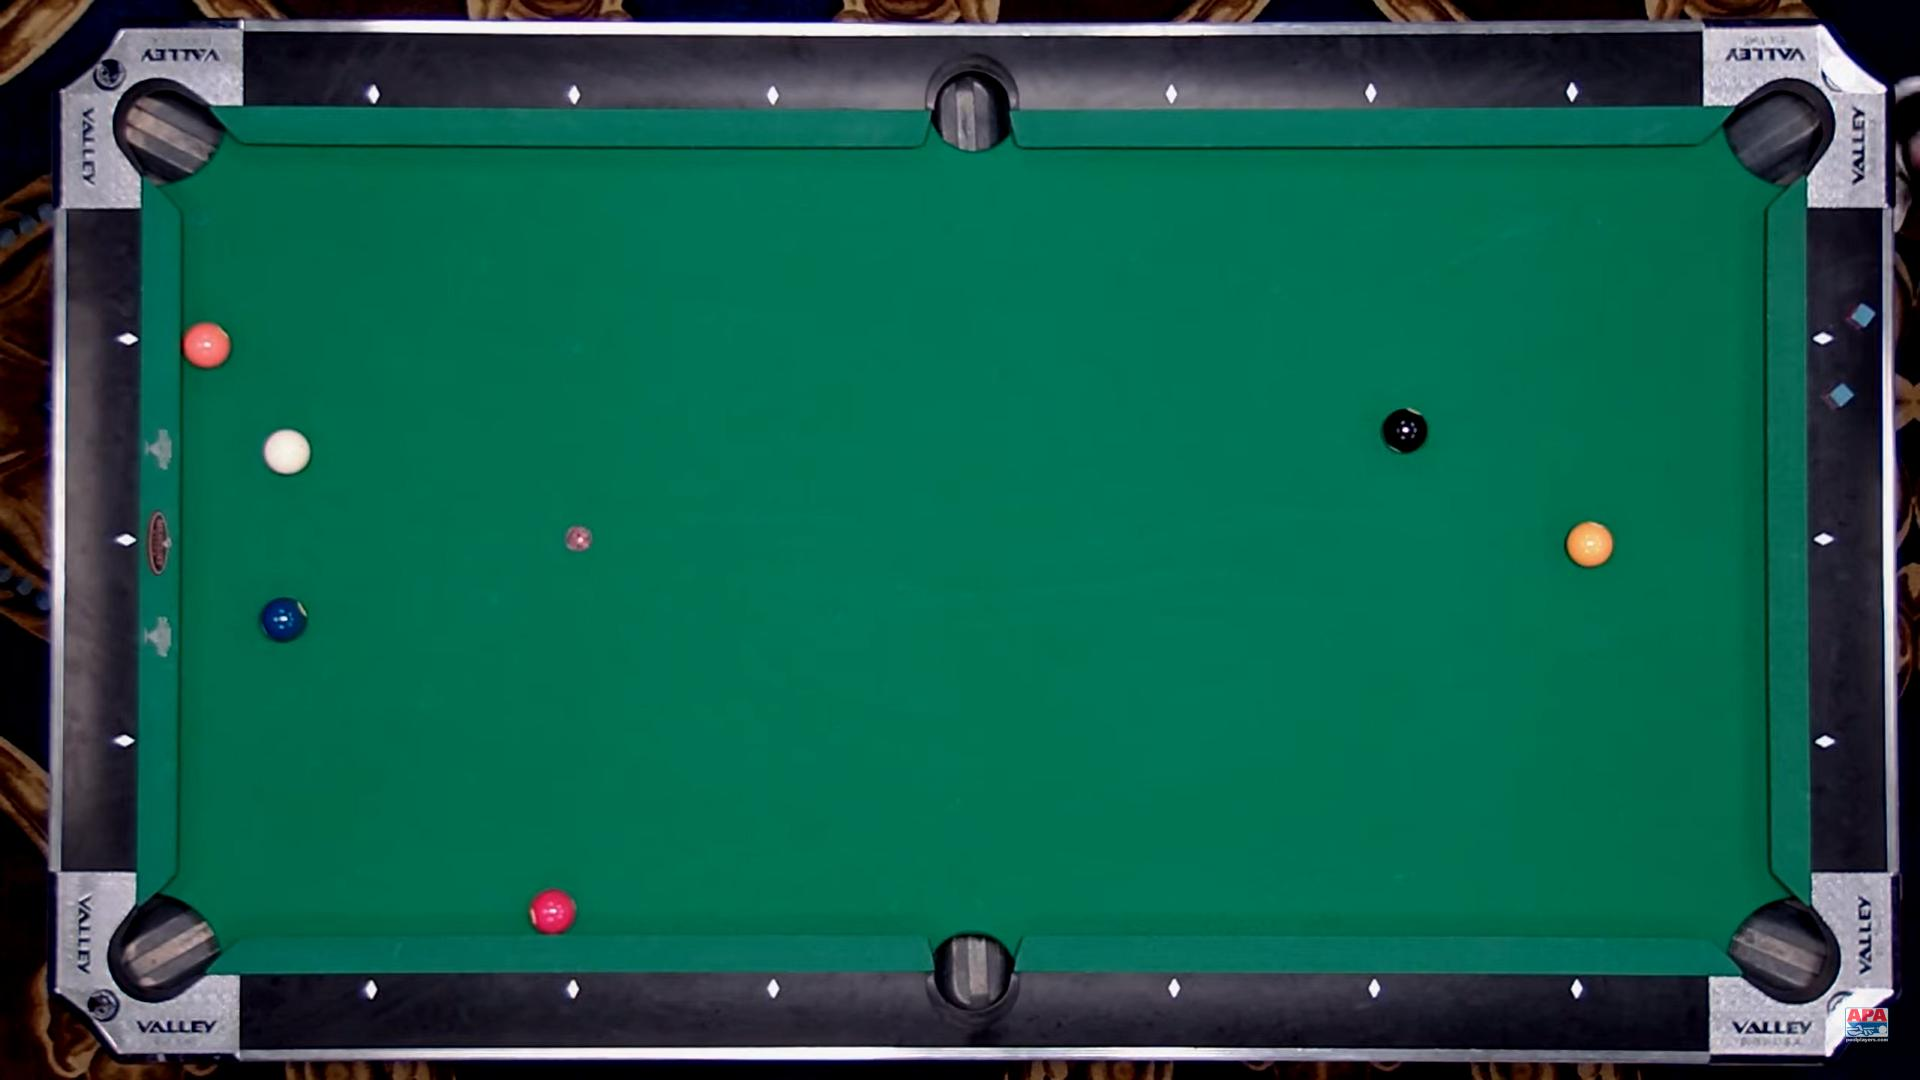Black: (1382, 407, 1431, 454)
Cue: (265, 429, 313, 476)
Dot: (119, 533, 133, 547), (368, 87, 382, 102), (567, 87, 582, 102), (1817, 534, 1832, 549), (1817, 733, 1832, 748), (1166, 981, 1180, 996), (116, 735, 129, 749), (120, 330, 133, 344), (765, 90, 779, 103), (1166, 87, 1180, 100), (1564, 86, 1578, 99), (1817, 334, 1830, 348), (1571, 982, 1584, 997), (1367, 982, 1381, 997), (564, 982, 578, 997), (364, 982, 377, 997), (1365, 87, 1378, 100), (765, 982, 778, 996)
Solid: (183, 322, 232, 368), (1567, 521, 1613, 567), (530, 889, 578, 934), (261, 597, 309, 641)
